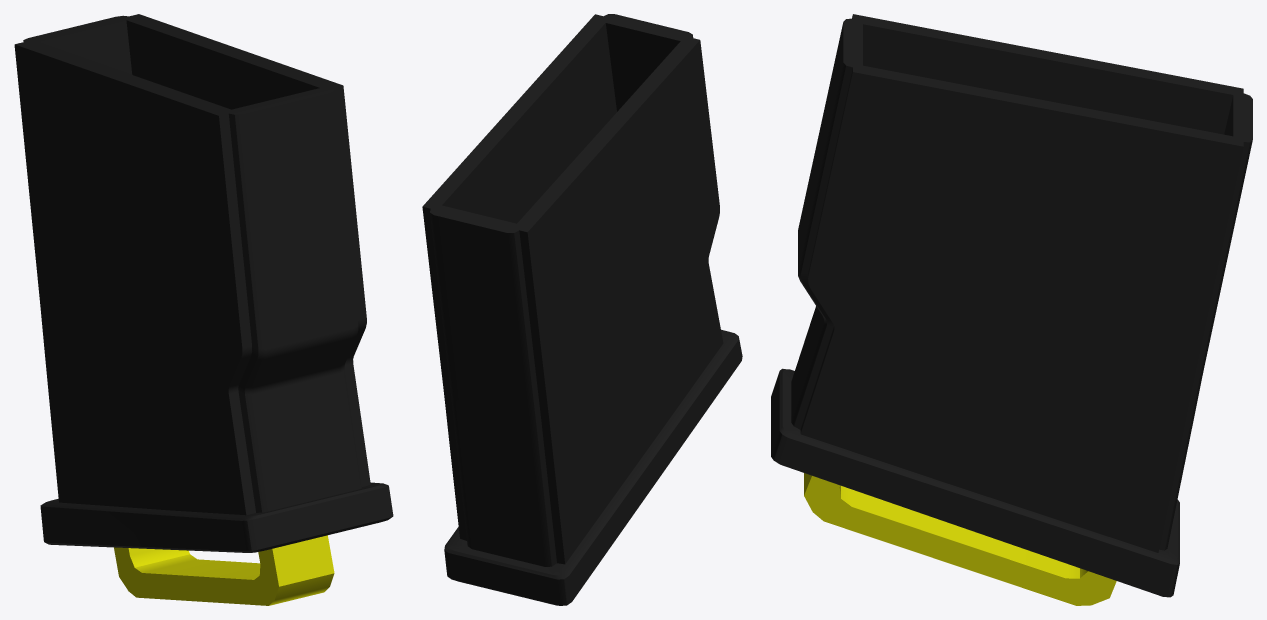
The model's file is MAG_CorpoRifle1.fbx.
The picture shows the model from 3 angles, left to right: view 1: azimuth 30°, elevation 25°; view 2: azimuth 150°, elevation 25°; view 3: azimuth 270°, elevation 25°; orthographic projection. The views are drawn at different scales.
Parts seen in each view (by area): view 1: MAG_CorpoRifle1; view 2: MAG_CorpoRifle1; view 3: MAG_CorpoRifle1.
Boxes of the visible parts, x1,y1,x2,y2 form: MAG_CorpoRifle1: [14, 14, 393, 605]; MAG_CorpoRifle1: [422, 14, 742, 605]; MAG_CorpoRifle1: [771, 14, 1252, 605].
Bounding box in the file's own units: 0.2863 × 1.07 × 0.8514.
